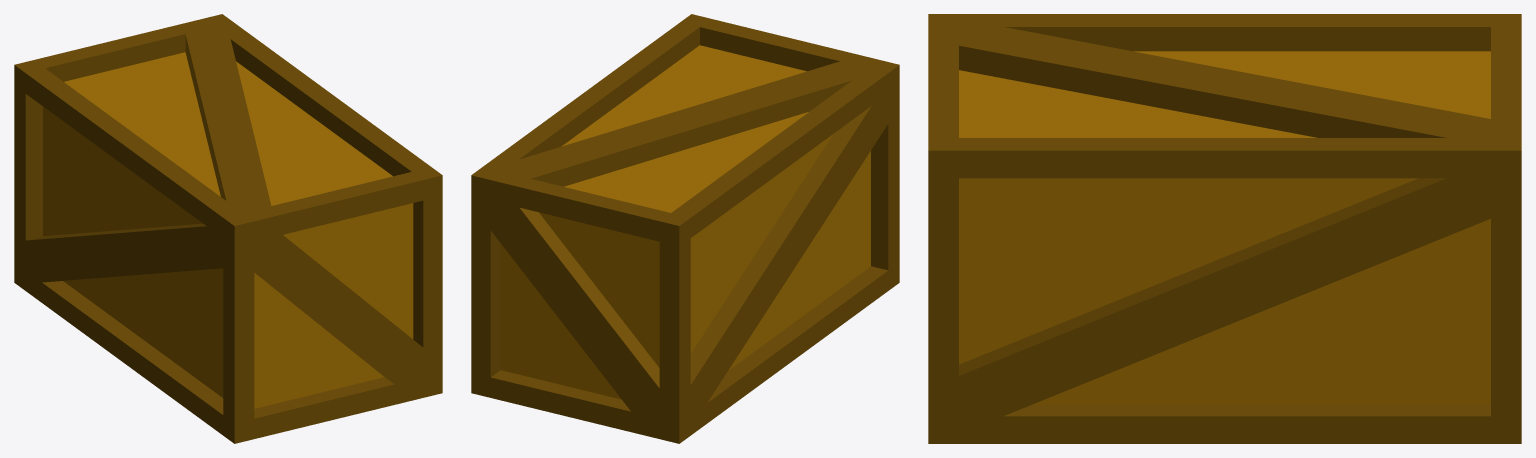
The model's file is CrateLong.fbx.
3 renders of one model, left to right at view 1: azimuth 30°, elevation 25°; view 2: azimuth 150°, elevation 25°; view 3: azimuth 270°, elevation 25°, orthographic. The views are drawn at different scales.
Parts seen in each view (by area): view 1: CrateLong; view 2: CrateLong; view 3: CrateLong.
Part boxes in pixels (bbox=[...]): CrateLong: bbox=[14, 14, 442, 443]; CrateLong: bbox=[471, 14, 899, 443]; CrateLong: bbox=[928, 14, 1521, 443].
Size of the model in its own units: 60 by 60 by 110.
